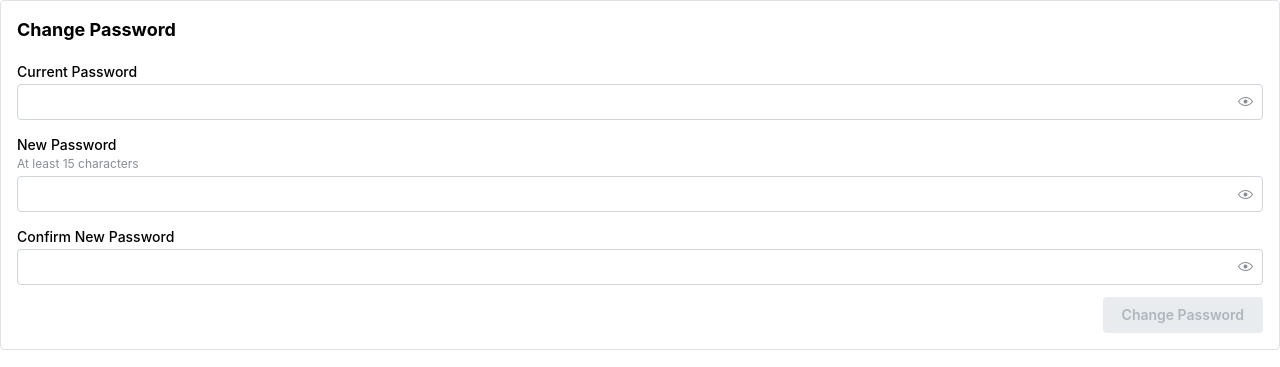
Test: PasswordSection › disables the submit button until every field is non-empty
Expected: the button "Change Password" is disabled, [1103,297,1263,333]
Step 1. Type "current-password-long-enough" into the password field labelled "Current Password" → (640, 102), box [18,85,1262,119]
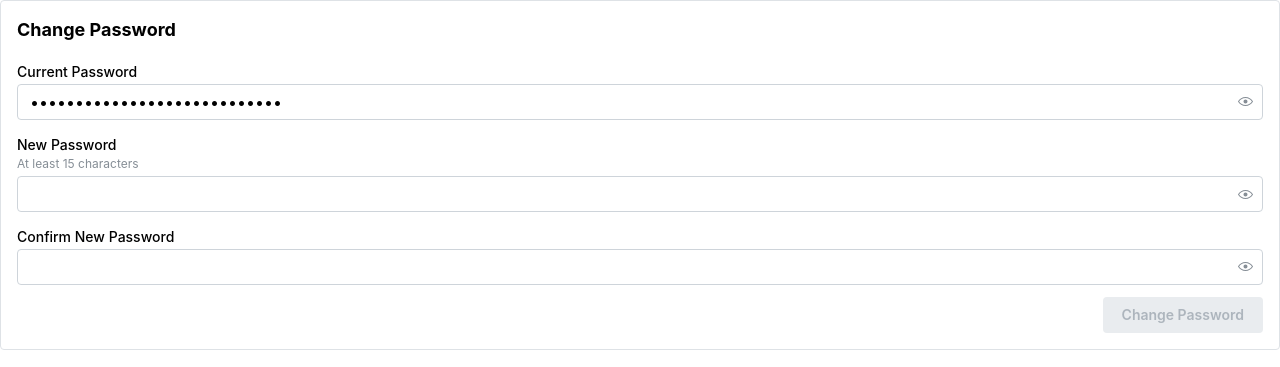
Expected: the button "Change Password" is disabled, [1103,297,1263,333]
Step 2. Type "new-password-long-enough" into the password field labelled "New Password" → (640, 194), box [18,177,1262,211]
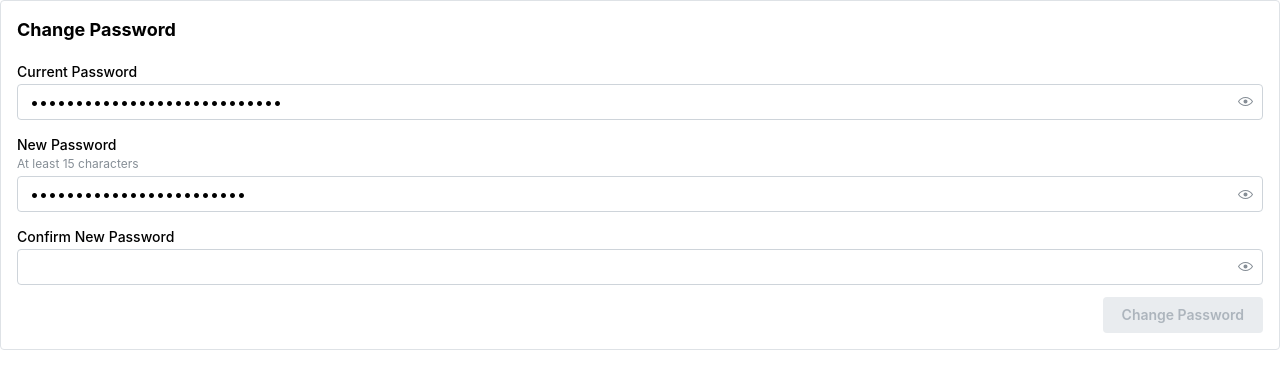
Expected: the button "Change Password" is disabled, [1103,297,1263,333]
Step 3. Type "new-password-long-enough" into the password field labelled "Confirm New Password" → (640, 267), box [18,250,1262,284]
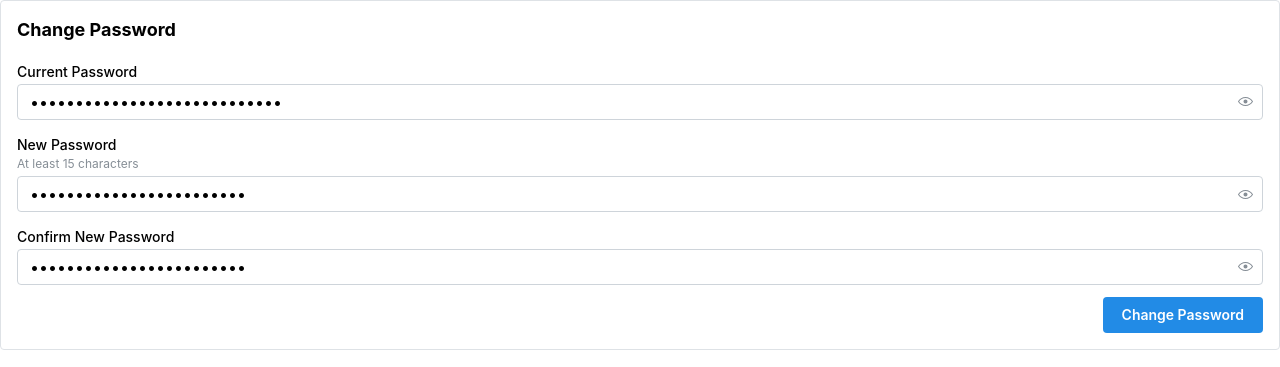
Expected: the button "Change Password" is enabled, [1103,297,1263,333]
